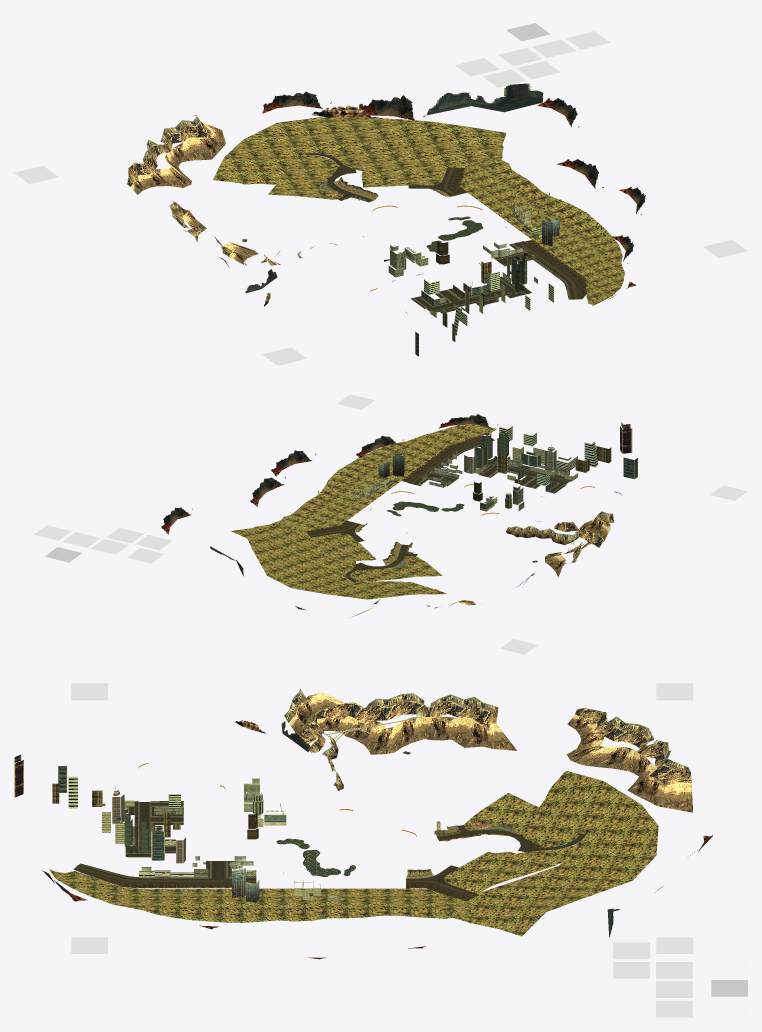
File: track-B2_C6_V2_env.glb
The picture shows the model from 3 angles, top to bottom: view 1: azimuth 30°, elevation 25°; view 2: azimuth 150°, elevation 25°; view 3: azimuth 270°, elevation 25°; orthographic projection. The views are drawn at different scales.
Visible parts, largest first — view 1: B2_C6_V2_env; view 2: B2_C6_V2_env; view 3: B2_C6_V2_env.
Boxes of the visible parts, x1,y1,x2,y2 form: B2_C6_V2_env: (14,14,747,365); B2_C6_V2_env: (14,394,747,654); B2_C6_V2_env: (14,683,747,1017).
Size of the model in its own units: 2580 by 208 by 2396.
32 materials, 31 textured.
